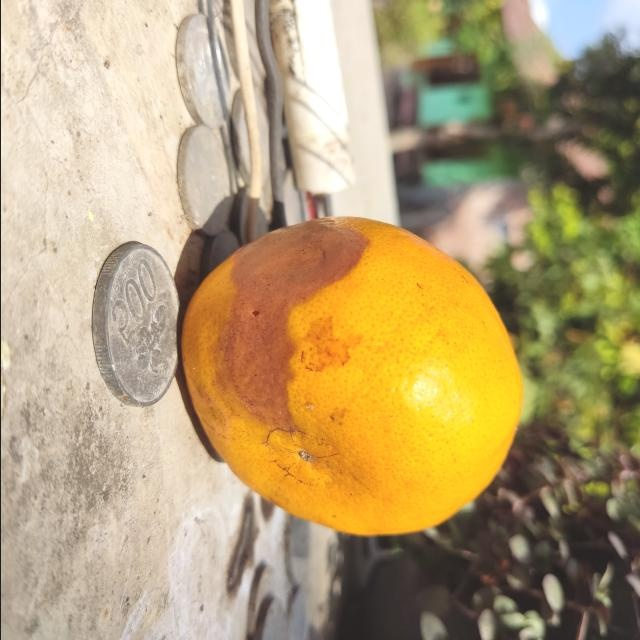agrume: (181, 216, 521, 540)
